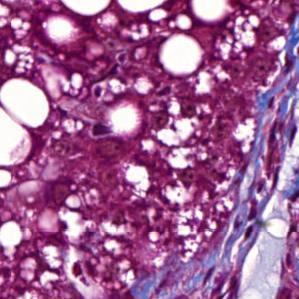steatosis: (159, 32, 206, 81)
